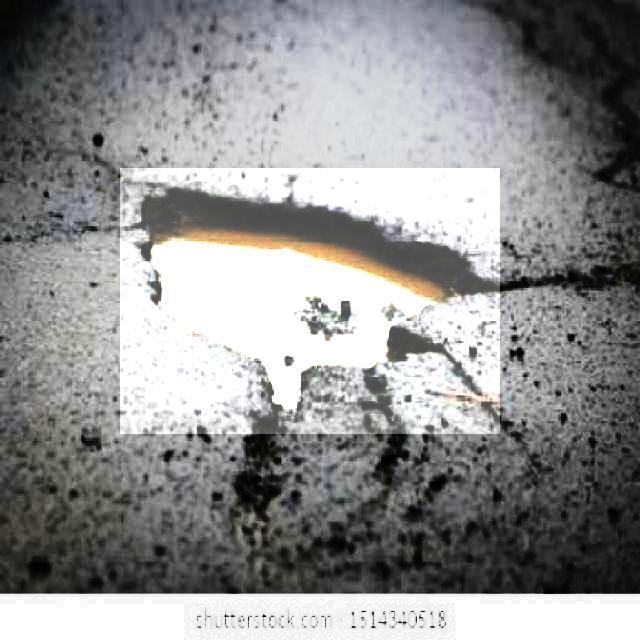pothole: (120, 168, 500, 434)
